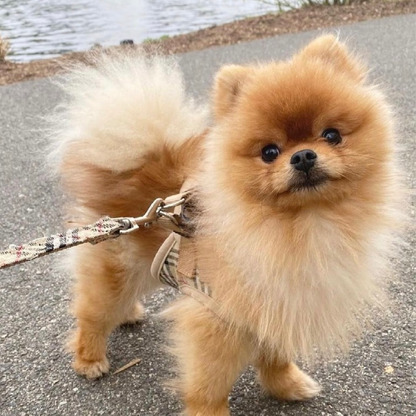Pomeranian: (43, 53, 404, 411)
